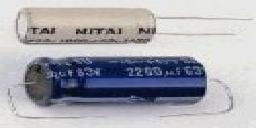Electrolytic Capacitor: (4, 52, 250, 128), (16, 2, 256, 46)
